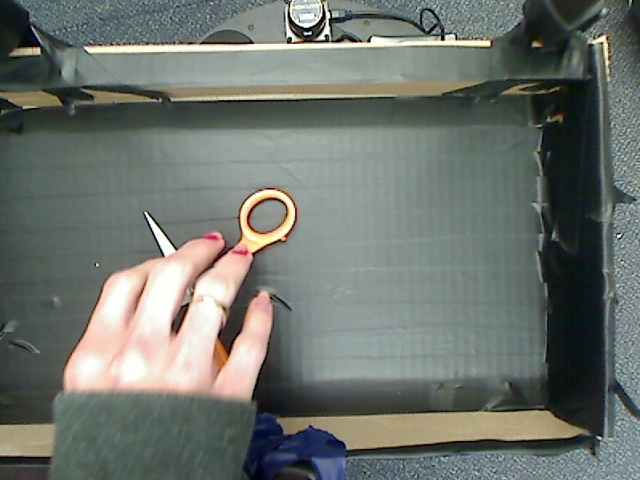scissors: (123, 180, 304, 420)
